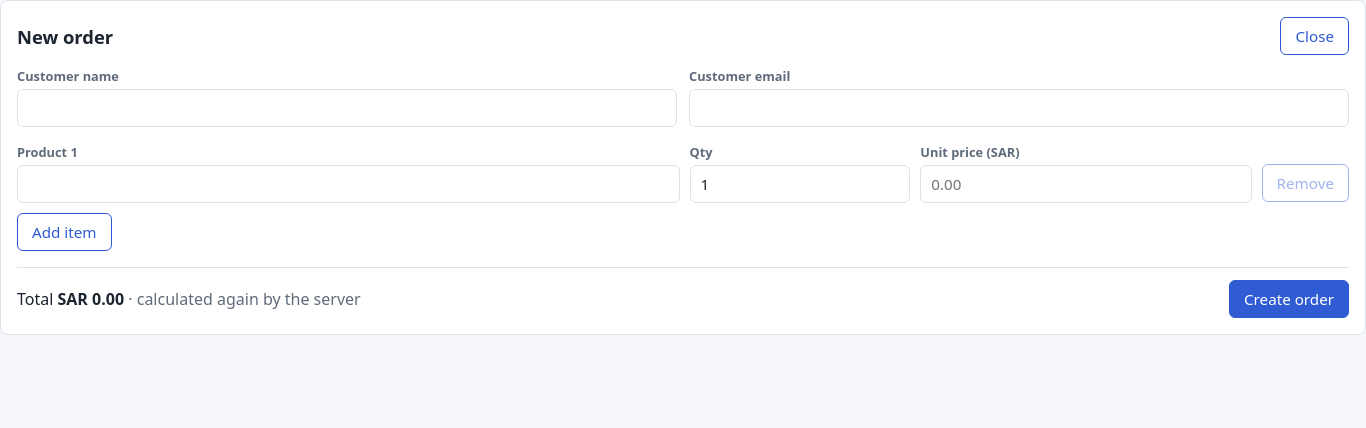
Test: CreateOrderForm › shows server validation errors next to the right field
Type "Sara Ali" into the field labelled "Customer name" at x=347, y=108, box [17,89,677,127]
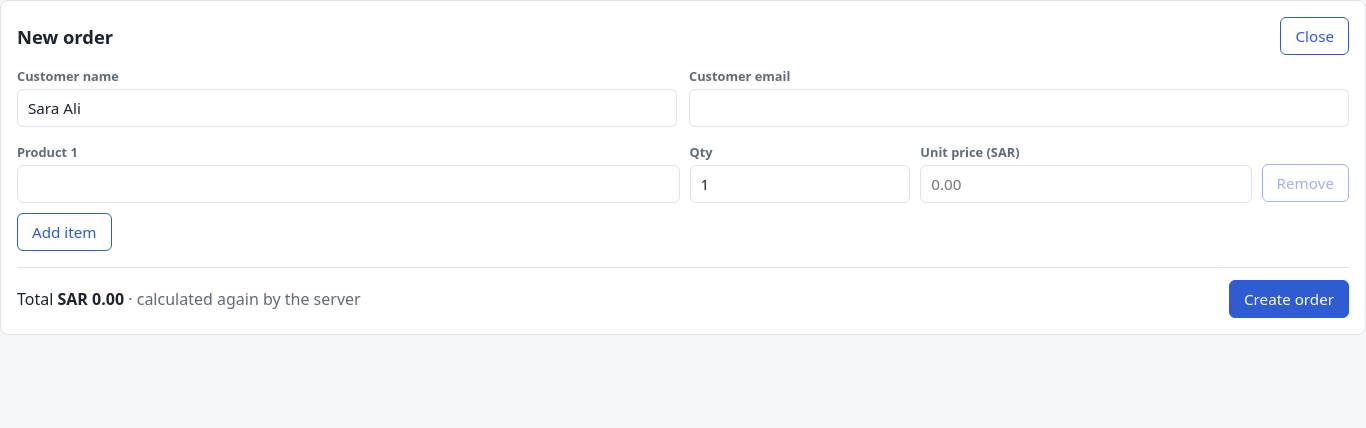
Type "sara@example.com" into the field labelled "Customer email" at x=1019, y=108, box [689,89,1349,127]
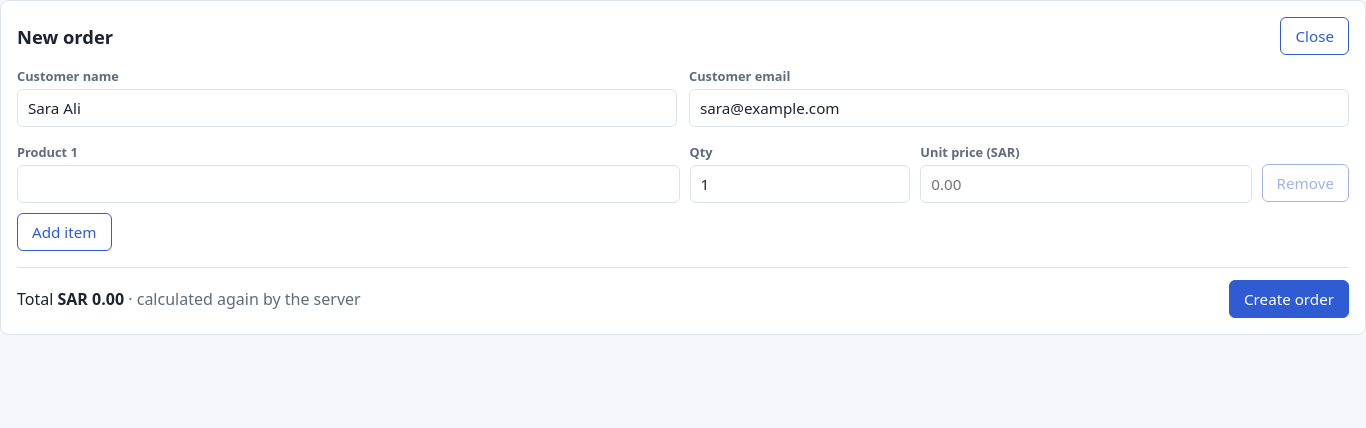
Type "Mouse" into the field labelled "Product 1" at x=348, y=184, box [17,165,680,203]
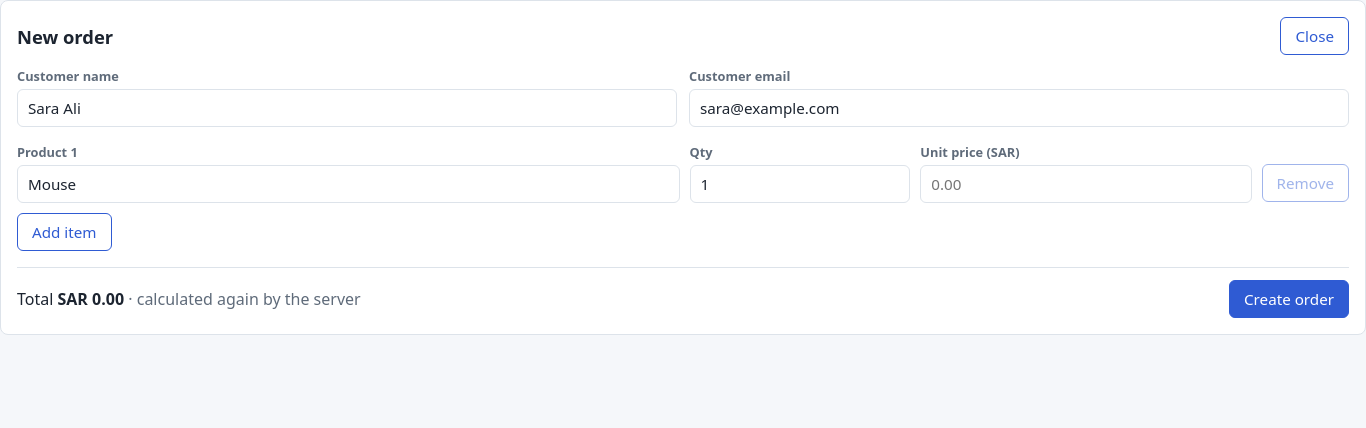
Replace the text in the field labelled "Qty" with "2" at x=800, y=184, box [690,165,910,203]
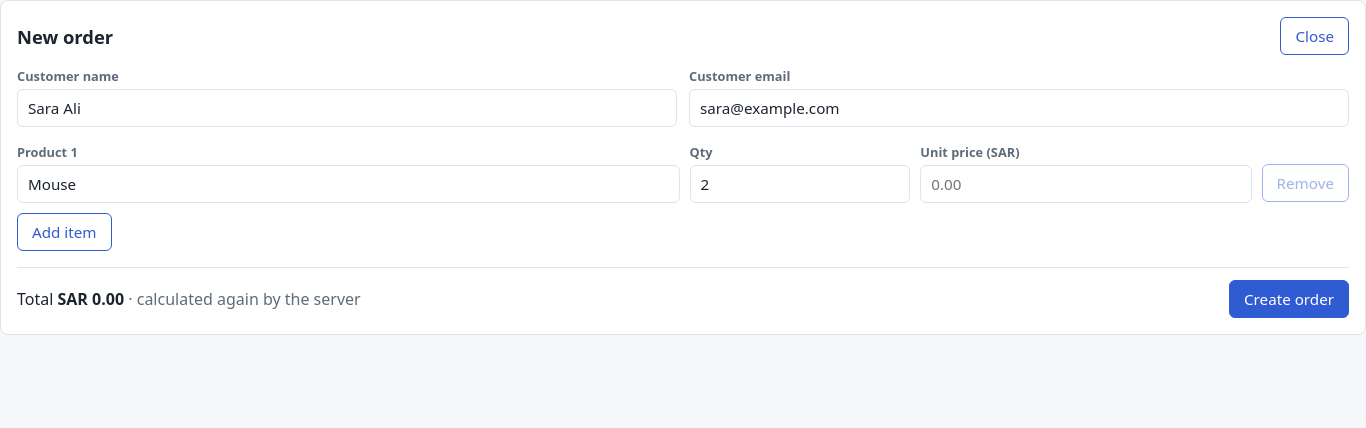
Type "24.99" into the field labelled "Unit price (SAR)" at x=1086, y=184, box [920,165,1252,203]
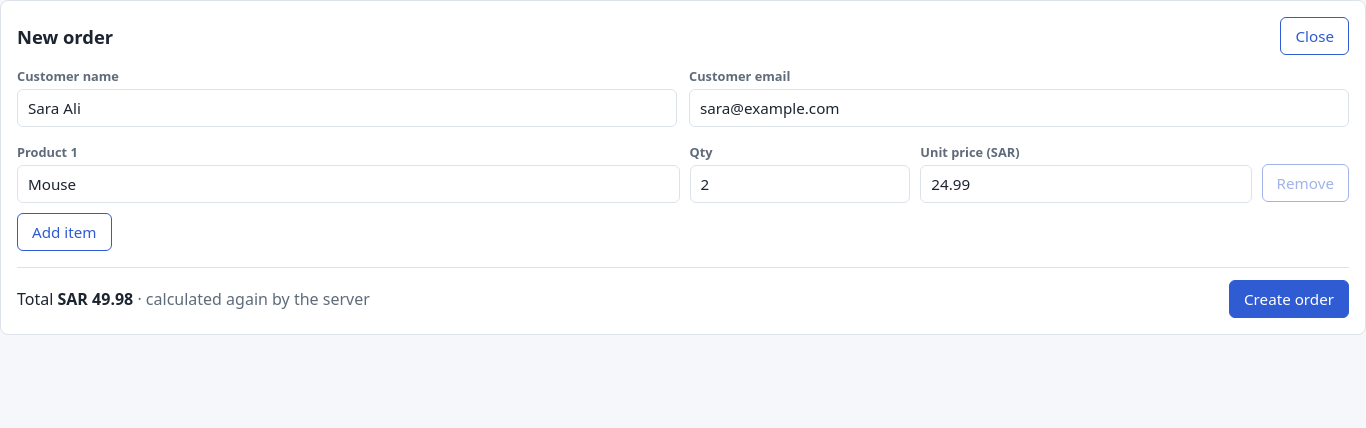
Click the button "Create order" at x=1289, y=299, box [1229,280,1349,318]
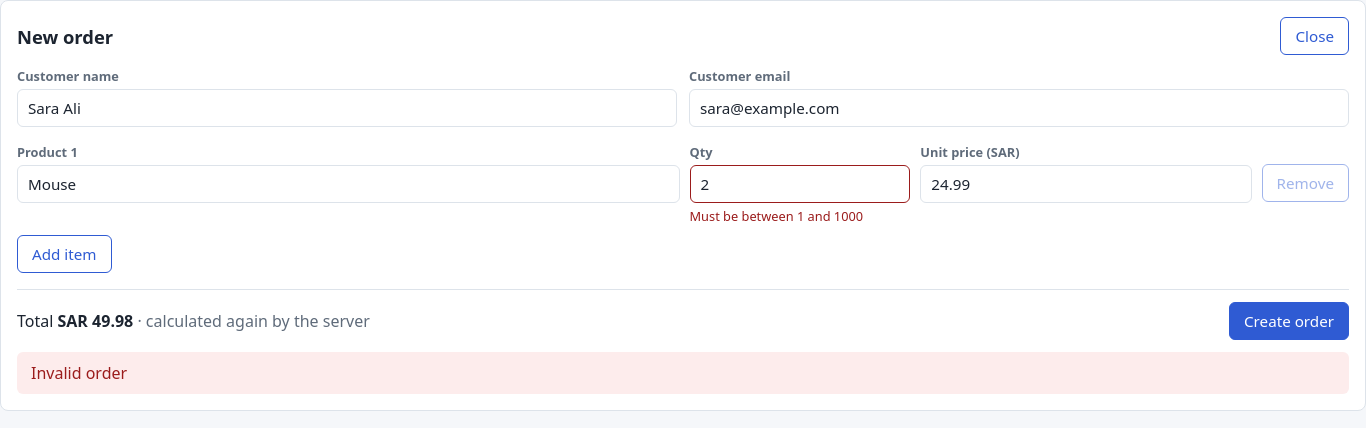
Now the message reads "Invalid order", box [31,362,127,384]
Now the text "Must be between 1 and 1000" is shown, box [690,207,863,225]
